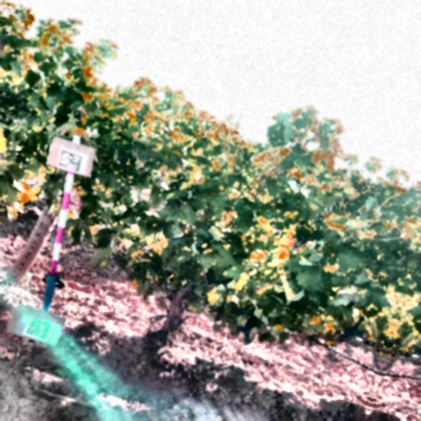QR: (24, 317, 53, 341), (57, 149, 84, 173)
